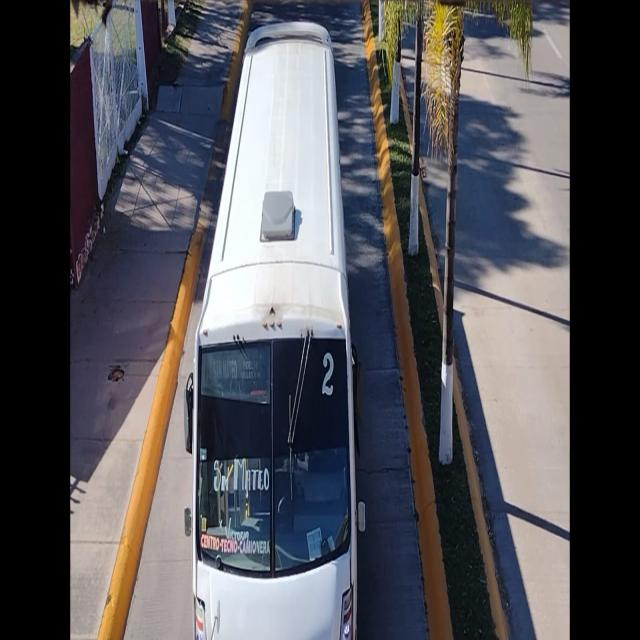Autobus: (182, 18, 368, 640)
